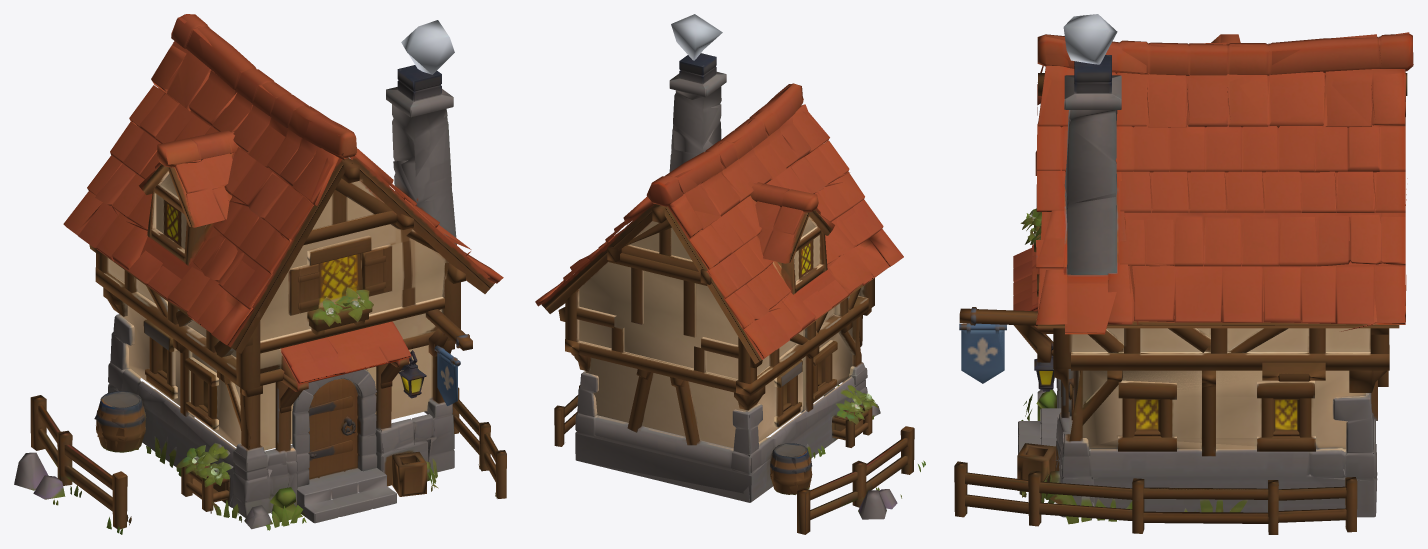
The model's file is house_cottage_b.glb.
The picture shows the model from 3 angles, left to right: view 1: azimuth 30°, elevation 25°; view 2: azimuth 150°, elevation 25°; view 3: azimuth 270°, elevation 25°; orthographic projection. The views are drawn at different scales.
Visible parts, largest first — view 1: house_cottage_b_LOD0_surface, house_cottage_b_LOD1_surface; view 2: house_cottage_b_LOD0_surface, house_cottage_b_LOD1_surface; view 3: house_cottage_b_LOD0_surface, house_cottage_b_LOD1_surface.
Part boxes in pixels (x1,y1,x2,y2): house_cottage_b_LOD0_surface: [14, 14, 506, 534]; house_cottage_b_LOD1_surface: [76, 17, 460, 530]; house_cottage_b_LOD0_surface: [538, 14, 925, 534]; house_cottage_b_LOD1_surface: [535, 55, 920, 502]; house_cottage_b_LOD0_surface: [954, 14, 1413, 534]; house_cottage_b_LOD1_surface: [961, 32, 1413, 524].
Size of the model in its own units: 6.57 by 7.52 by 6.13.
1 material, 1 textured.
